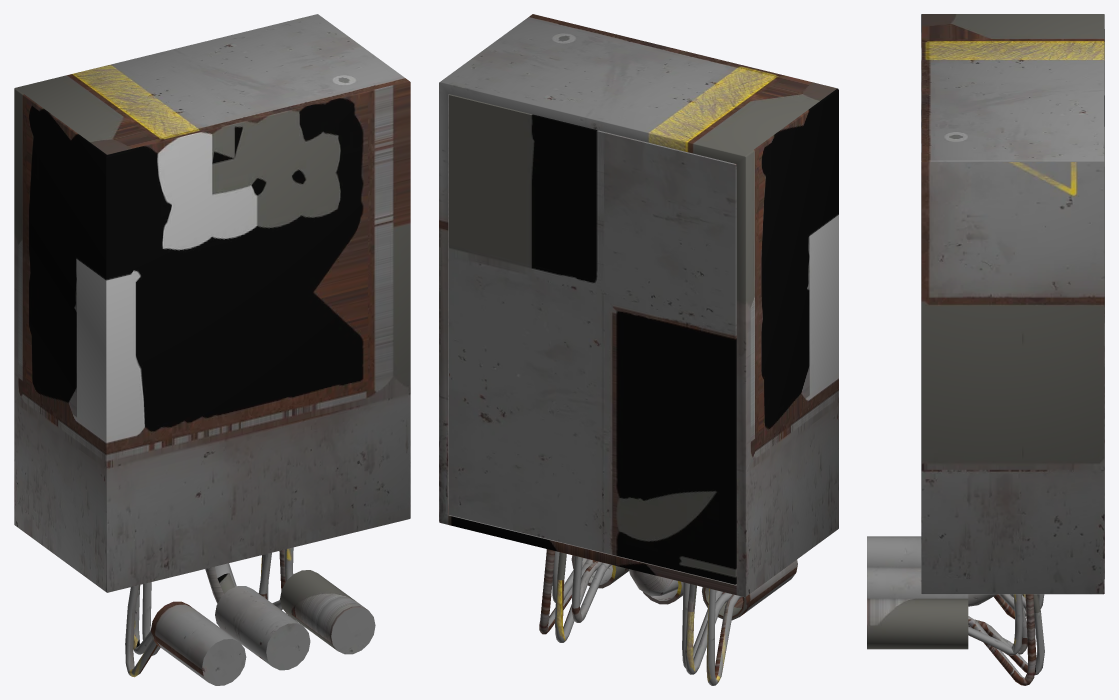
Rendered from electrical_box.glb.
3 views of the same model, side by side, from view 1: azimuth 30°, elevation 25°; view 2: azimuth 150°, elevation 25°; view 3: azimuth 270°, elevation 25° (orthographic).
Parts seen in each view (by area): view 1: body; view 2: body; view 3: body.
Part boxes in pixels (box(x1,y1,x2,y2)): body: box(14, 14, 410, 685); body: box(439, 14, 838, 685); body: box(867, 14, 1104, 685).
Size of the model in its own units: 0.4496 by 0.81 by 0.3067.
1 material, 1 textured.
